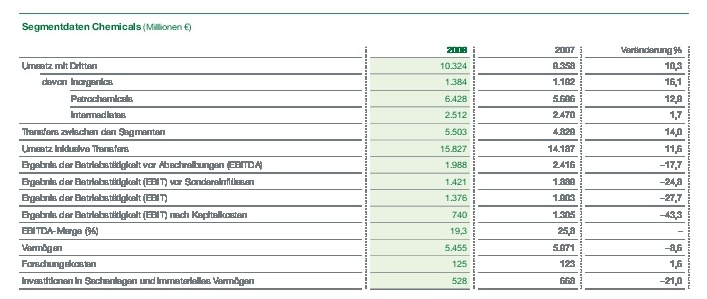table: (0, 0, 707, 299)
